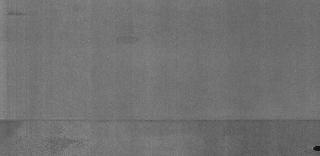oil spot: (115, 33, 139, 45), (2, 10, 34, 18)
punching hole: (310, 146, 320, 152)
welding line: (1, 114, 319, 126)
